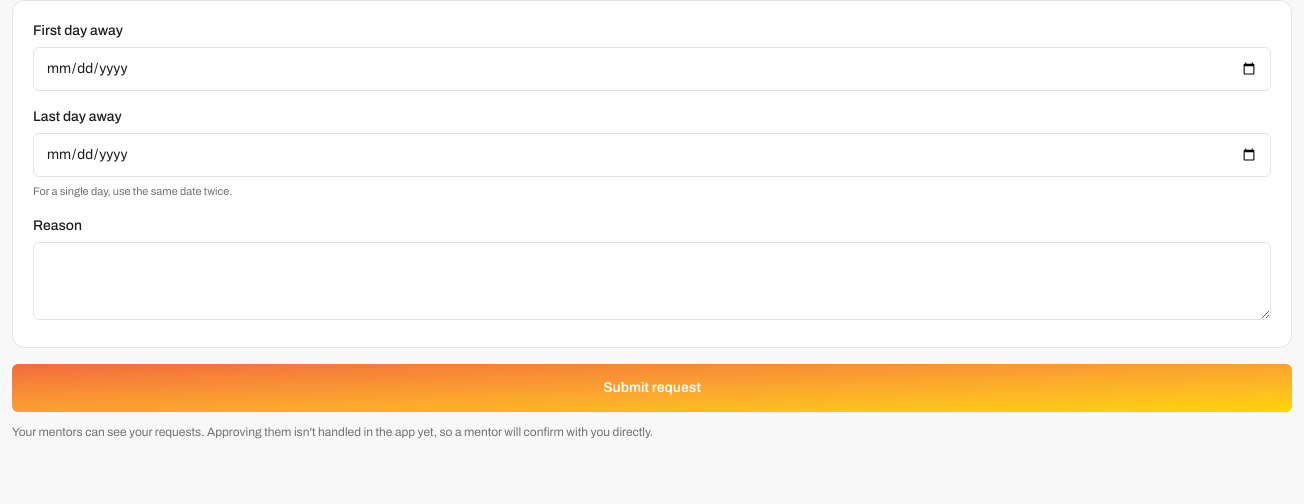
Scenario: submitting a request › confirms and clears the form rather than navigating away
Type "2026-08-06" into the date field labelled "First day away" at point(652, 69), box top-left (33, 47), bottom-right (1271, 91)
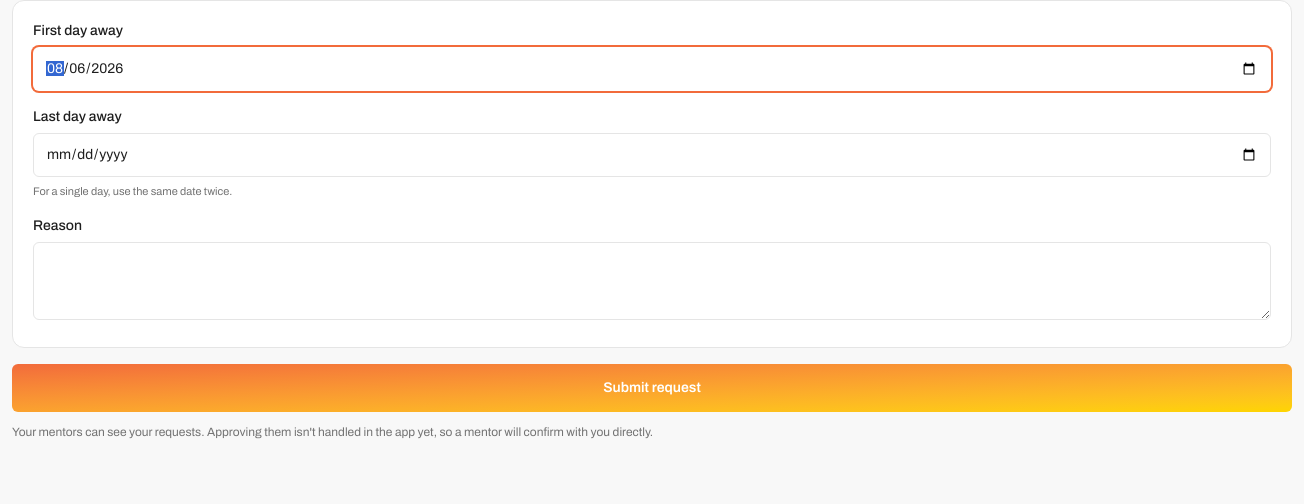
Type "2026-08-07" into the date field labelled "Last day away" at point(652, 155), box top-left (33, 133), bottom-right (1271, 177)
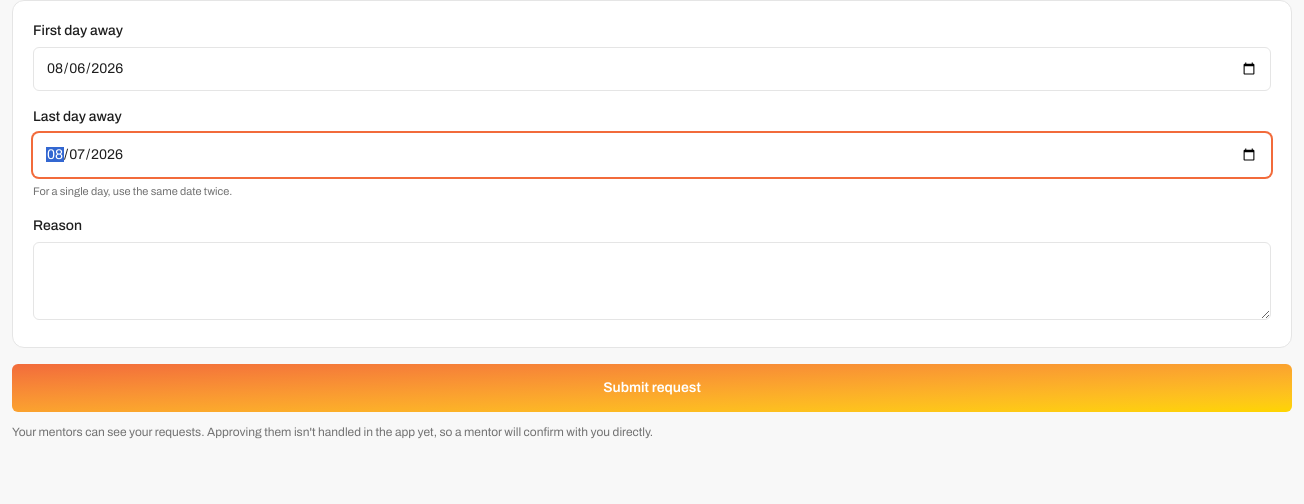
Type "Family event" into the text box labelled "Reason" at point(652, 280), box top-left (33, 242), bottom-right (1271, 320)
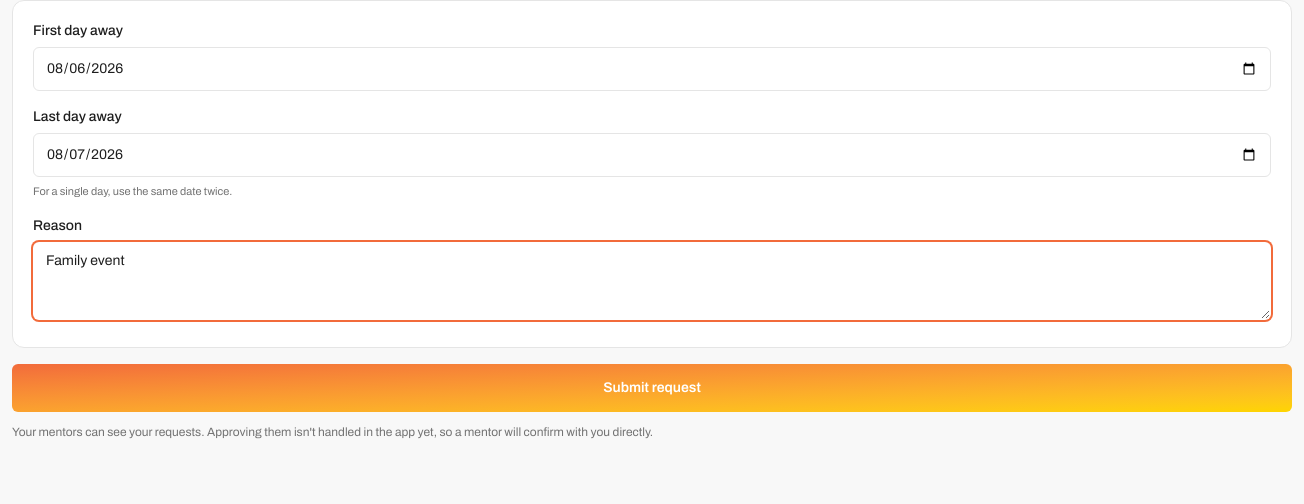
Click the button "Submit request" at point(652, 388), box top-left (12, 364), bottom-right (1292, 412)
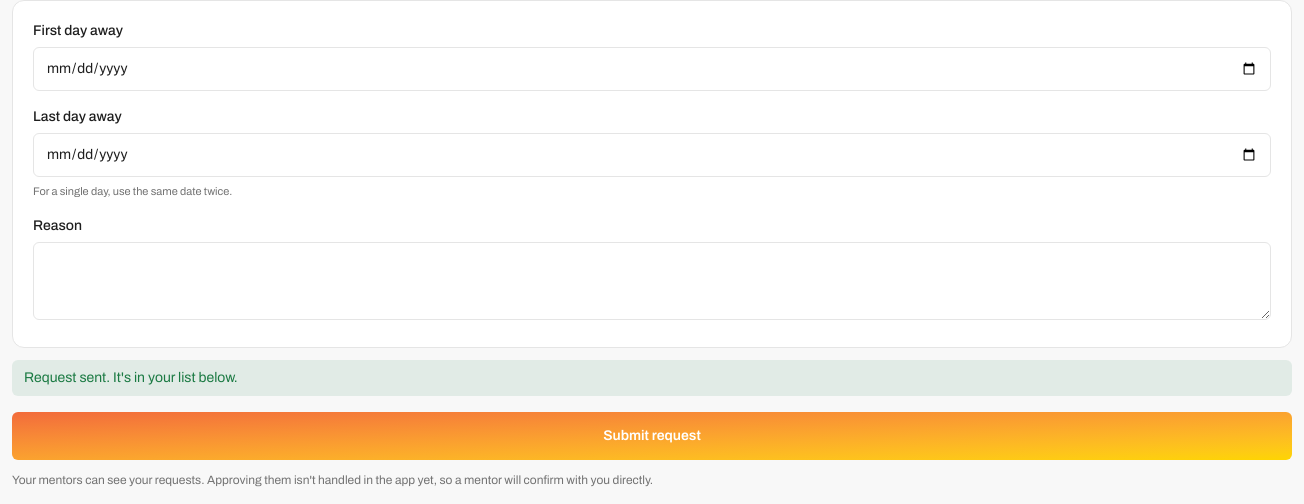
Result: the message shows "Request sent" at top-left (24, 370), bottom-right (238, 384)
Result: the text box labelled "Reason" is empty at top-left (33, 242), bottom-right (1271, 320)
